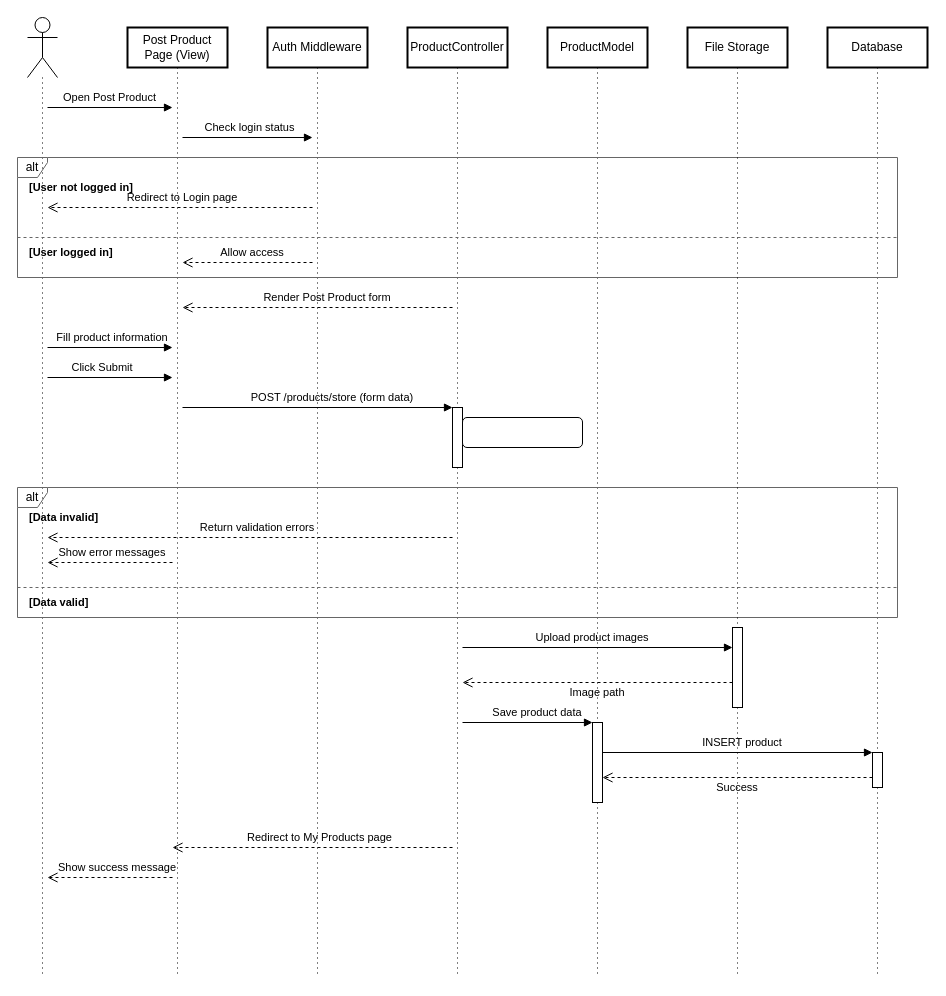
The diagram is 946 pixels wide and 996 high, and some of its shapes have lost their labels. Here are the shapes that lost their labels. From the top down, the centre of each, then its label:
At pixel 42 47: "User".
At pixel 522 432: "Validate input data".
